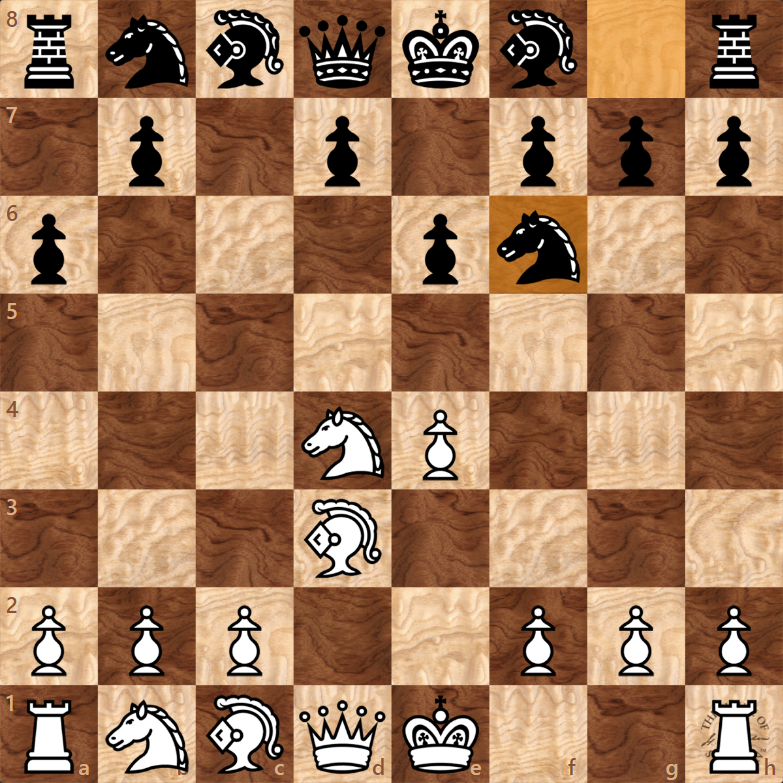B: (303, 496, 386, 582), (203, 691, 286, 776)
K: (399, 691, 483, 777)
N: (298, 405, 388, 484), (103, 698, 192, 777)
P: (28, 603, 69, 680), (126, 602, 167, 679), (224, 603, 265, 680), (518, 601, 559, 678), (614, 602, 655, 679), (712, 602, 753, 679), (419, 408, 460, 485)
Q: (297, 697, 390, 777)
R: (706, 696, 766, 777), (20, 695, 78, 778)
b: (201, 5, 288, 93), (493, 5, 582, 91)
k: (398, 6, 481, 91)
n: (102, 12, 193, 94)
p: (417, 210, 463, 289), (123, 114, 168, 192), (27, 211, 72, 288), (320, 113, 365, 190), (515, 113, 560, 190), (613, 114, 658, 191), (711, 113, 756, 190)
q: (296, 10, 388, 93)
r: (18, 11, 81, 93), (706, 9, 763, 92)
